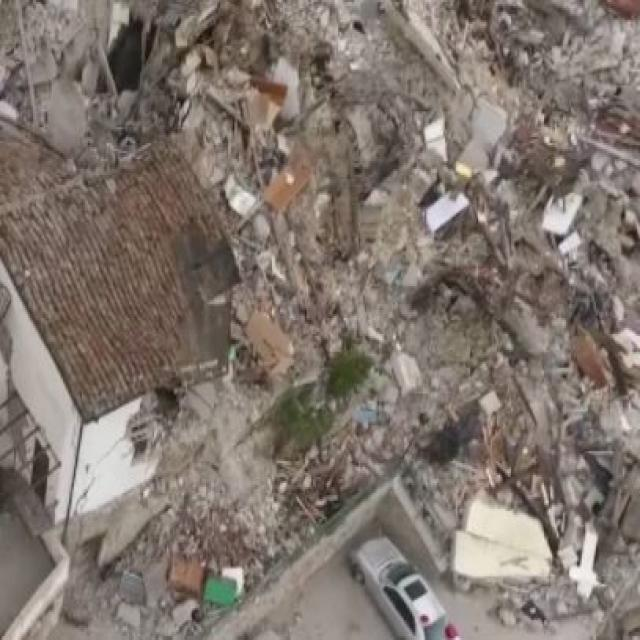collapsed_building: (224, 2, 638, 509)
